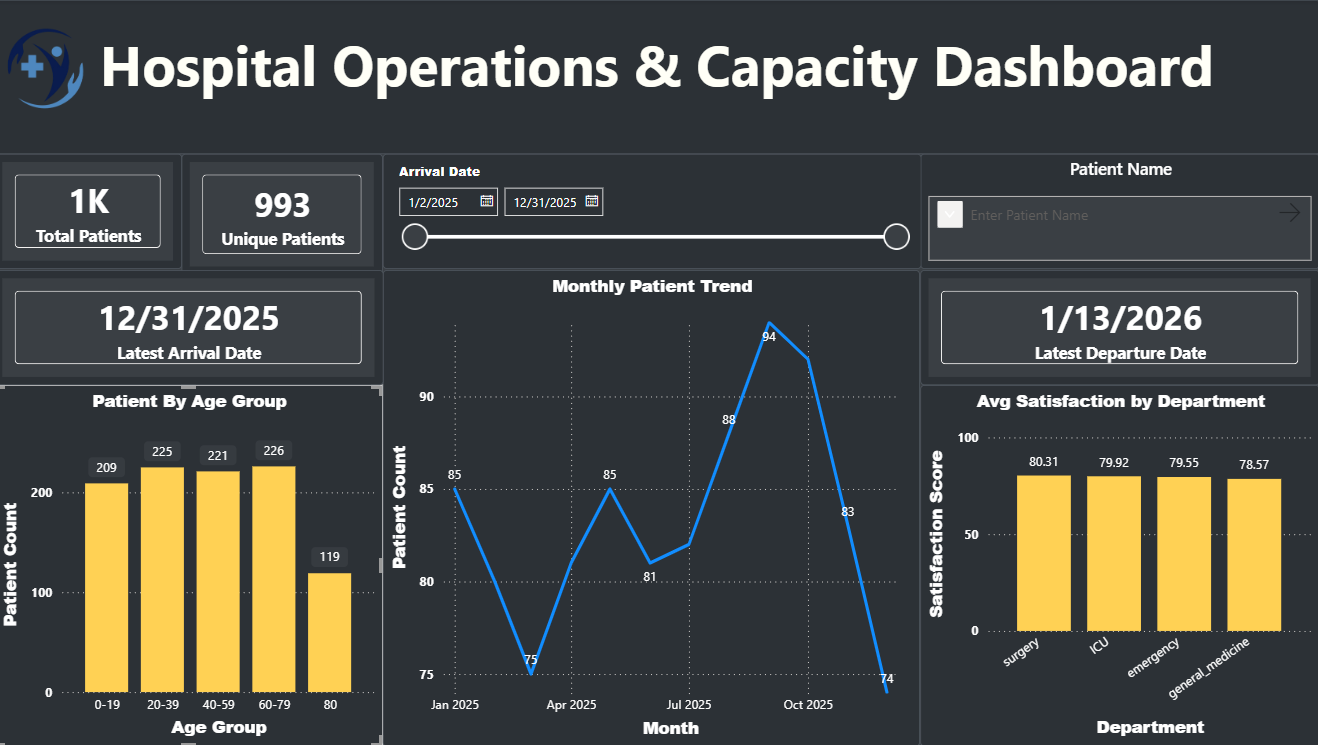

The dashboard page shown, as its layout file describes it:
{"tool":"powerbi","page":{"name":"Patients","canvas":[1280,720],"ordinal":0},"visuals":[{"type":"cardVisual","fields":{"Data":["CountNonNull(patients.patient_id)"]},"box":[0,148.6,181.4,111.4],"z":0},{"type":"cardVisual","fields":{"Data":["Count(patients.name)"]},"box":[181.4,148.6,194.3,117.1],"z":1000},{"type":"lineClusteredColumnComboChart","title":"Patient By Age Group","fields":{"Category":["patients.Age Column"],"Y":["CountNonNull(patients.name)"]},"box":[0,371.4,375.7,348.6],"z":2000},{"type":"clusteredColumnChart","title":"Avg Satisfaction by Department","fields":{"Category":["patients.service"],"Y":["Avg(patients.satisfaction)"]},"box":[894.3,371.4,385.7,348.6],"z":3000},{"type":"lineChart","title":"Monthly Patient Trend","fields":{"Category":["patients.arrival_date.Variation.Date Hierarchy.Year","patients.arrival_date.Variation.Date Hierarchy.Quarter","patients.arrival_date.Variation.Date Hierarchy.Month","patients.arrival_date.Variation.Date Hierarchy.Day"],"Y":["CountNonNull(patients.patient_id)"]},"box":[375.7,260,518.6,460],"z":4000},{"type":"textSlicer","fields":{"Values":["patients.name"]},"box":[894.3,148.6,385.7,111.4],"z":5000},{"type":"cardVisual","fields":{"Data":["Max(patients.arrival_date)"]},"box":[0,260,375.7,111.4],"z":6000},{"type":"cardVisual","fields":{"Data":["Max(patients.departure_date)"]},"box":[894.3,260,385.7,111.4],"z":7000},{"type":"slicer","fields":{"Values":["patients.arrival_date"]},"box":[375.7,148.6,520,111.4],"z":8000},{"type":"textbox","title":"Hospital","box":[0,0,1280,148.6],"z":9000},{"type":"image","box":[0,0,100,130],"z":10000}]}

Visuals, with their boxes in screenshot pixels (x1, y1, x2, y2), scaled from the page's 1280x720 canvas onto the 1318x745 screenshot:
cardVisual - CountNonNull(patients.patient_id): (0, 154, 187, 269)
cardVisual - Count(patients.name): (187, 154, 387, 275)
"Patient By Age Group" lineClusteredColumnComboChart: (0, 384, 387, 744)
"Avg Satisfaction by Department" clusteredColumnChart: (921, 384, 1317, 744)
"Monthly Patient Trend" lineChart: (387, 269, 921, 744)
textSlicer - patients.name: (921, 154, 1317, 269)
cardVisual - Max(patients.arrival_date): (0, 269, 387, 384)
cardVisual - Max(patients.departure_date): (921, 269, 1317, 384)
slicer - patients.arrival_date: (387, 154, 922, 269)
"Hospital" textbox: (0, 0, 1317, 154)
image: (0, 0, 103, 135)
